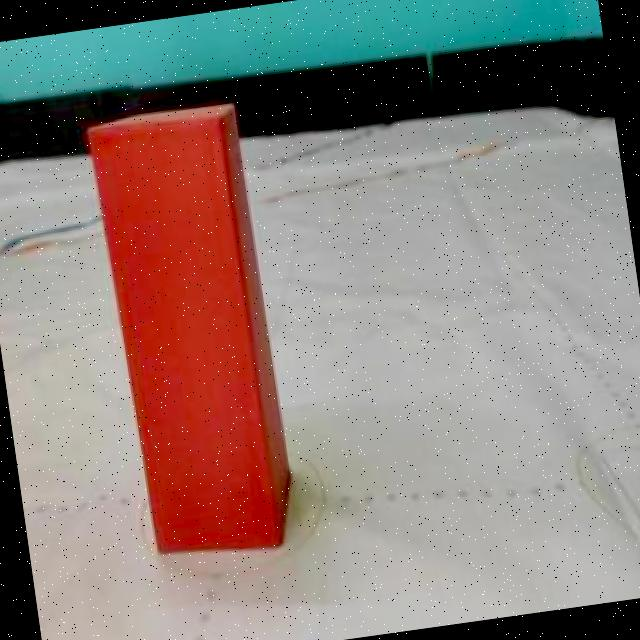redbox: (88, 98, 302, 569)
